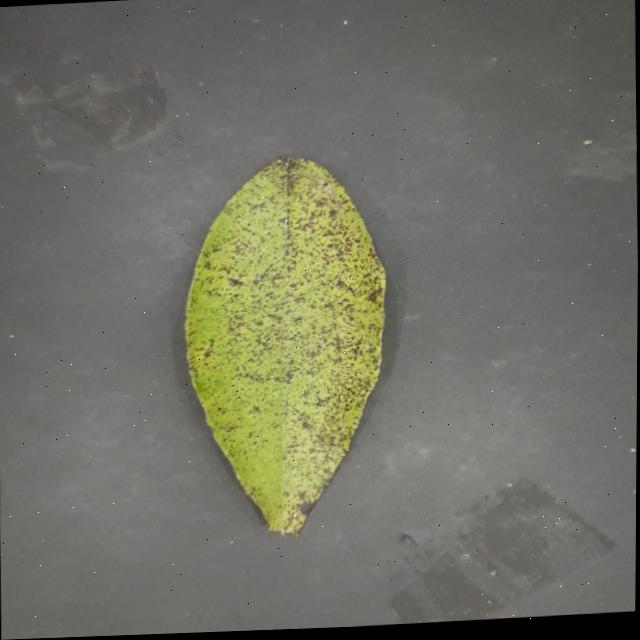greasy_spot: (185, 155, 385, 534)
